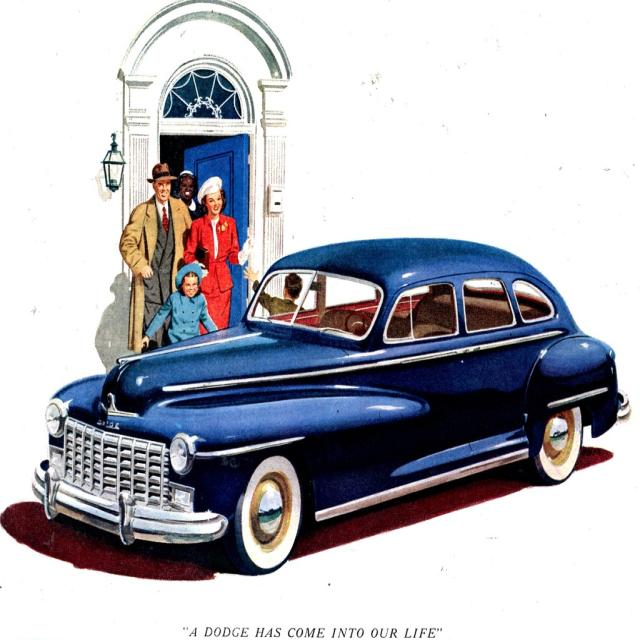car: (30, 233, 628, 578)
